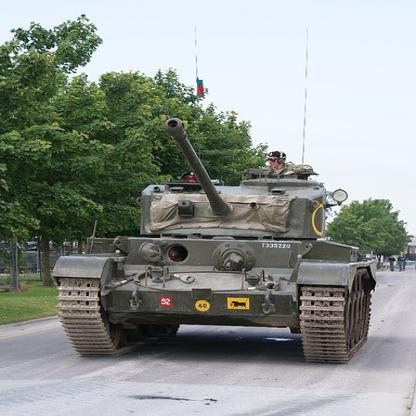Tank: (57, 114, 378, 384)
